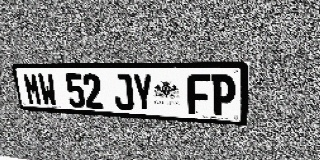2: (82, 73, 103, 109)
5: (65, 73, 86, 108)
F: (187, 74, 210, 115)
J: (112, 74, 134, 111)
M: (22, 73, 43, 106)
P: (211, 74, 236, 117)
W: (37, 73, 58, 106)
Y: (132, 74, 154, 112)
